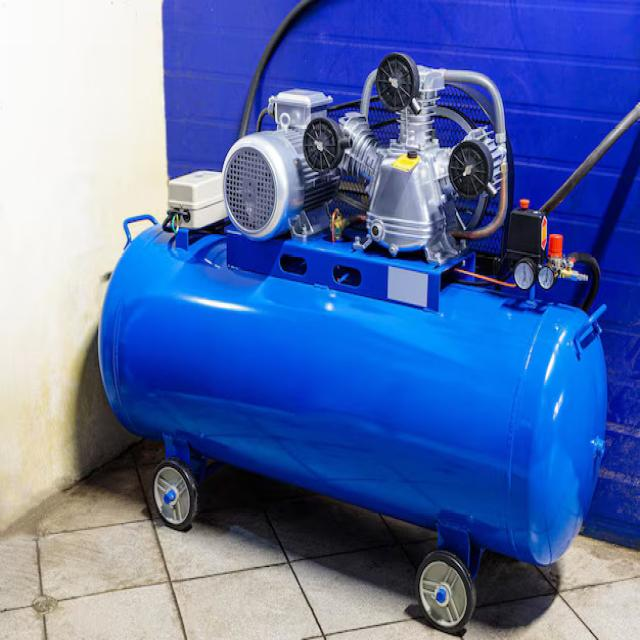compressor: (95, 16, 640, 634)
